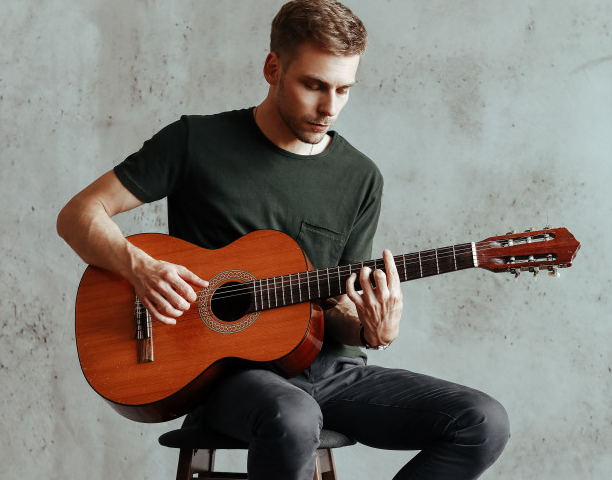fretboard: (251, 243, 475, 311)
